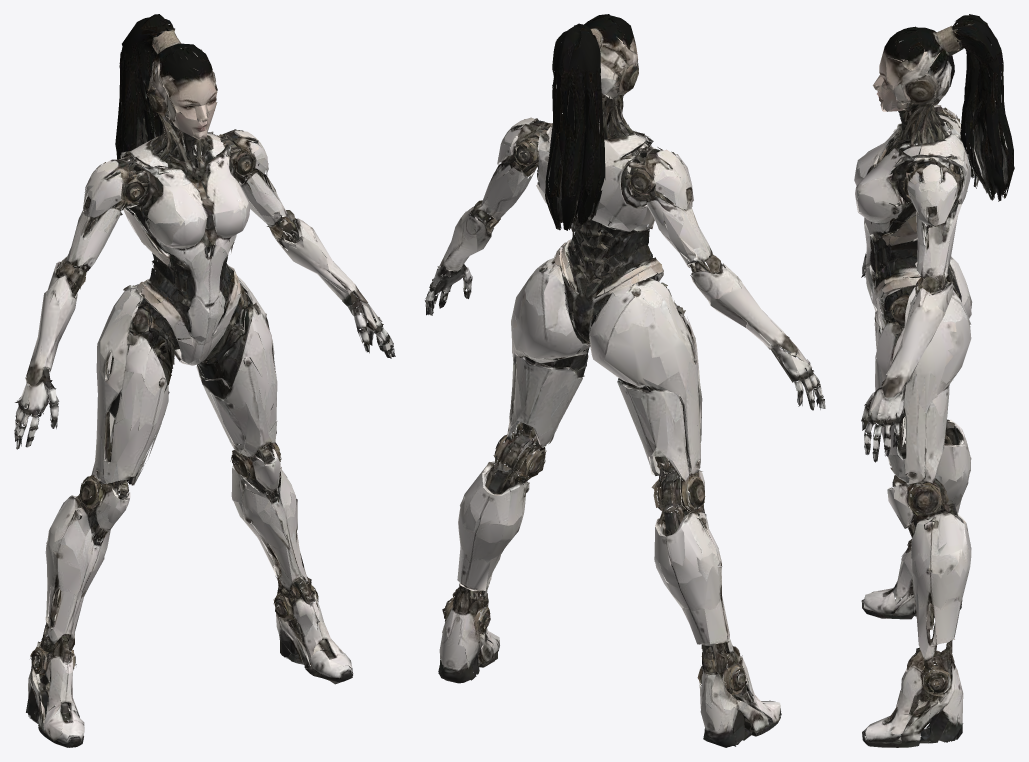
Rendered from nx-lince.glb.
3 views of the same model, side by side, from view 1: azimuth 30°, elevation 25°; view 2: azimuth 150°, elevation 25°; view 3: azimuth 270°, elevation 25° (orthographic). The views are drawn at different scales.
Visible parts, largest first — view 1: Mesh_0; view 2: Mesh_0; view 3: Mesh_0.
Part boxes in pixels (bbox=[...]): Mesh_0: bbox=[14, 14, 395, 747]; Mesh_0: bbox=[424, 14, 825, 747]; Mesh_0: bbox=[854, 14, 1014, 747].
Size of the model in its own units: 1.14 by 1.91 by 0.4203.
Materials: 1 (1 with a texture image).
